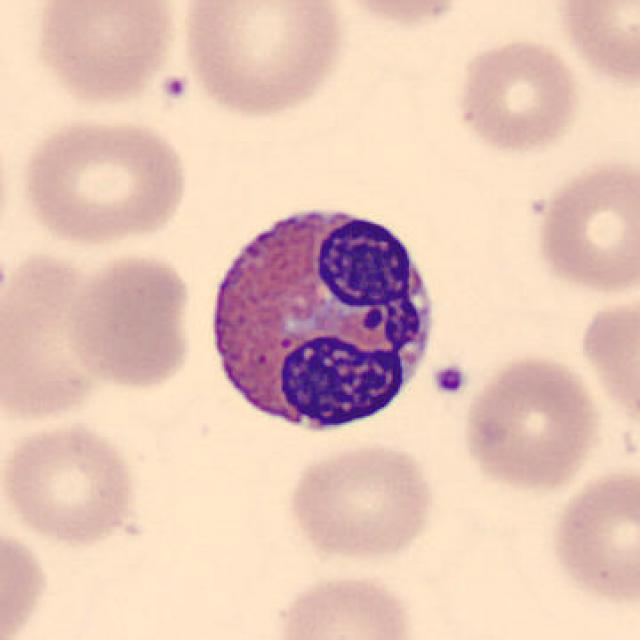Eosinophil: (194, 187, 448, 451)
Platelets: (430, 362, 470, 398)
RBC: (14, 113, 194, 250), (176, 0, 348, 122), (458, 351, 602, 495), (0, 244, 112, 428), (283, 437, 437, 566), (62, 249, 198, 395), (0, 418, 142, 548), (29, 0, 183, 111), (452, 33, 583, 157), (530, 153, 638, 298), (546, 464, 638, 610), (270, 569, 420, 640), (576, 289, 638, 437), (551, 0, 640, 92), (0, 525, 52, 640), (326, 0, 476, 28)
